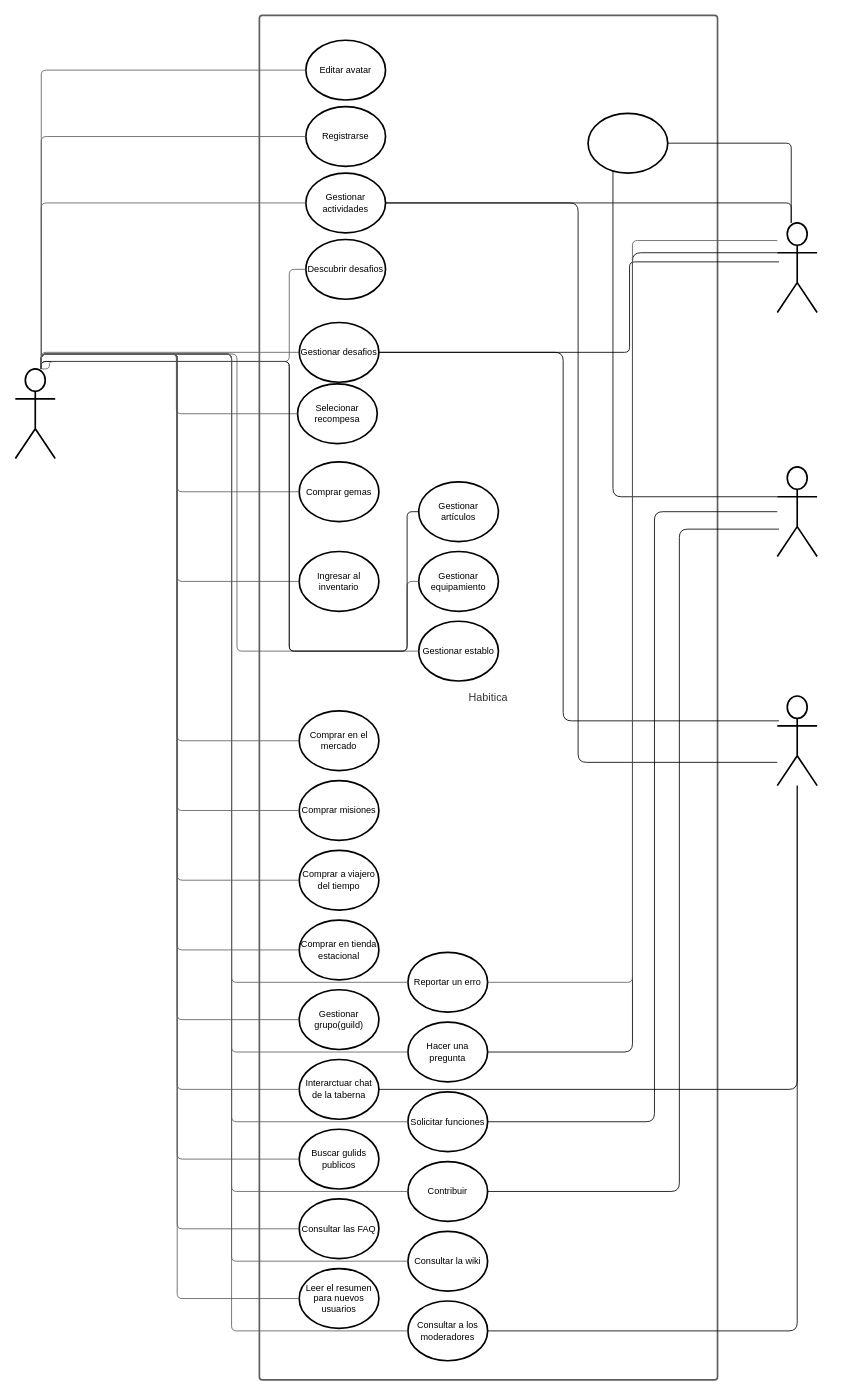
Some shapes in this 844 by 1394 pixel diagram are drawn without their labels. The shapes that lost their labels are listed below. From the top down, each one's centre as x and y in pixels, then its label:
the point at 627,142: Reportes de incidentes
the point at 797,267: Administrador
the point at 35,413: Usuario
the point at 797,511: Desarrollador
the point at 797,740: Moderador
